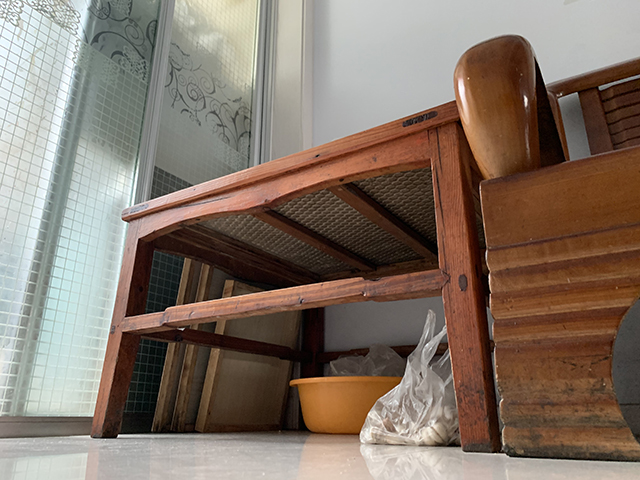table: (89, 96, 501, 454)
